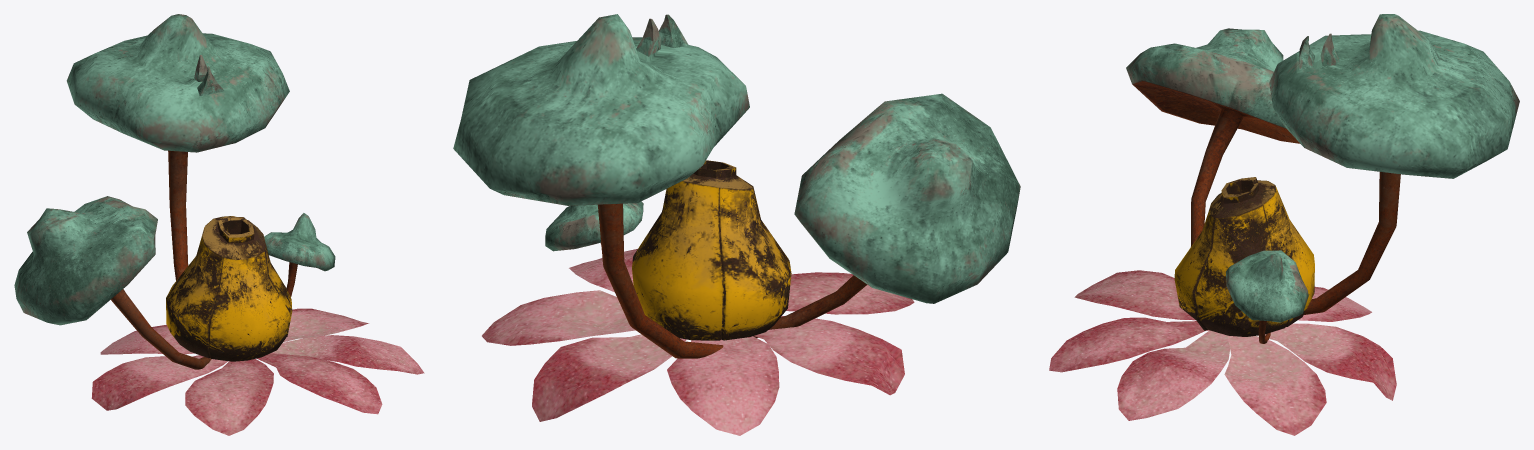
File: flor_alienigena_2.obj
The picture shows the model from 3 angles, left to right: view 1: azimuth 30°, elevation 25°; view 2: azimuth 150°, elevation 25°; view 3: azimuth 270°, elevation 25°; orthographic projection. The views are drawn at different scales.
Parts seen in each view (by area): view 1: Alien_Plants:AlienMushroom, Alien_Plants:AlienMushroom_Base; view 2: Alien_Plants:AlienMushroom, Alien_Plants:AlienMushroom_Base; view 3: Alien_Plants:AlienMushroom, Alien_Plants:AlienMushroom_Base.
Part boxes in pixels (x1,y1,x2,y2): Alien_Plants:AlienMushroom: (14, 14, 335, 369); Alien_Plants:AlienMushroom_Base: (91, 308, 424, 435); Alien_Plants:AlienMushroom: (453, 14, 1020, 358); Alien_Plants:AlienMushroom_Base: (482, 249, 914, 435); Alien_Plants:AlienMushroom: (1126, 14, 1519, 343); Alien_Plants:AlienMushroom_Base: (1049, 270, 1396, 435).
Bounding box in the file's own units: 9.49 × 8 × 9.55.
1 material, 1 textured.
